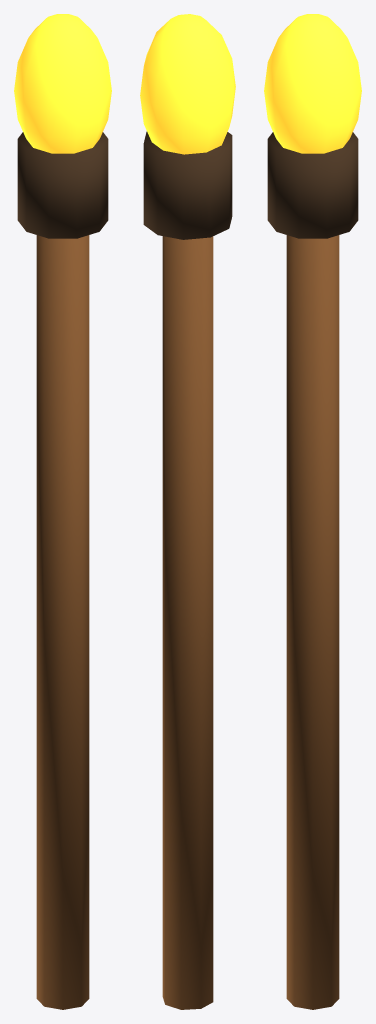
The model's file is torch.glb.
The picture shows the model from 3 angles, left to right: view 1: azimuth 90°, elevation 25°; view 2: azimuth 210°, elevation 25°; view 3: azimuth 270°, elevation 25°; orthographic projection.
Parts seen in each view (by area): view 1: Torch; view 2: Torch; view 3: Torch.
Part boxes in pixels (x1,y1,x2,y2): Torch: (14,14,111,1009); Torch: (140,14,235,1009); Torch: (264,14,361,1009).
Size of the model in its own units: 0.1236 by 1.44 by 0.13.
